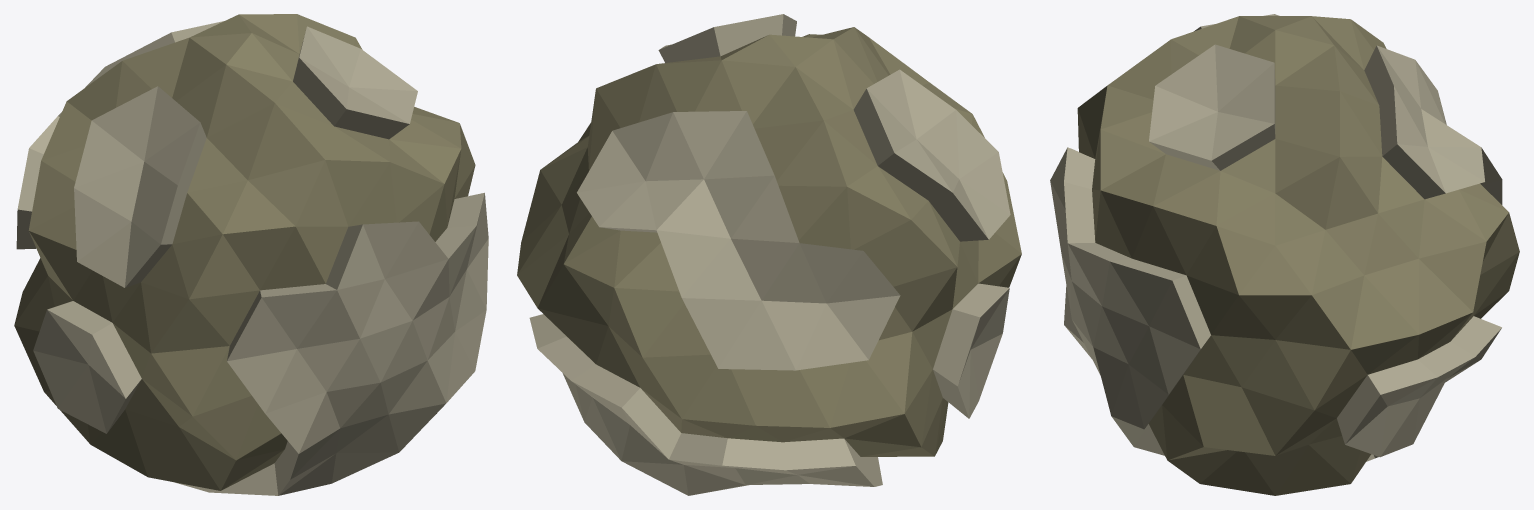
File: asteroid.fbx
3 views of the same model, side by side, from view 1: azimuth 30°, elevation 25°; view 2: azimuth 150°, elevation 25°; view 3: azimuth 270°, elevation 25° (orthographic). The views are drawn at different scales.
Parts seen in each view (by area): view 1: Icosphere; view 2: Icosphere; view 3: Icosphere.
Part boxes in pixels (box(x1,y1,x2,y2)): Icosphere: box(14, 14, 488, 495); Icosphere: box(517, 14, 1021, 495); Icosphere: box(1050, 14, 1519, 495).
Size of the model in its own units: 219 by 224 by 220.
